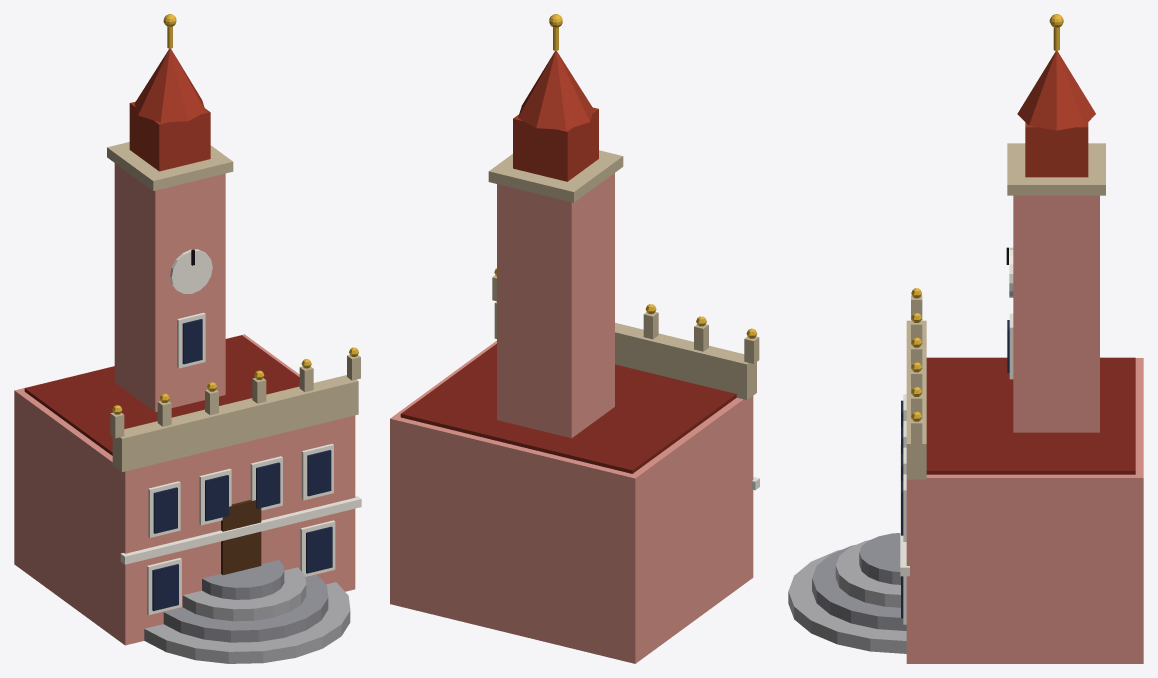
The model's file is ratusz.glb.
3 renders of one model, left to right at view 1: azimuth 30°, elevation 25°; view 2: azimuth 150°, elevation 25°; view 3: azimuth 270°, elevation 25°, orthographic. The views are drawn at different scales.
Parts seen in each view (by area): view 1: ratusz; view 2: ratusz; view 3: ratusz.
Part boxes in pixels (<box>): ratusz: <box>14,14,361,663</box>; ratusz: <box>390,14,759,663</box>; ratusz: <box>788,14,1143,663</box>.
Bounding box in the file's own units: 3.84 × 8.24 × 4.5.
